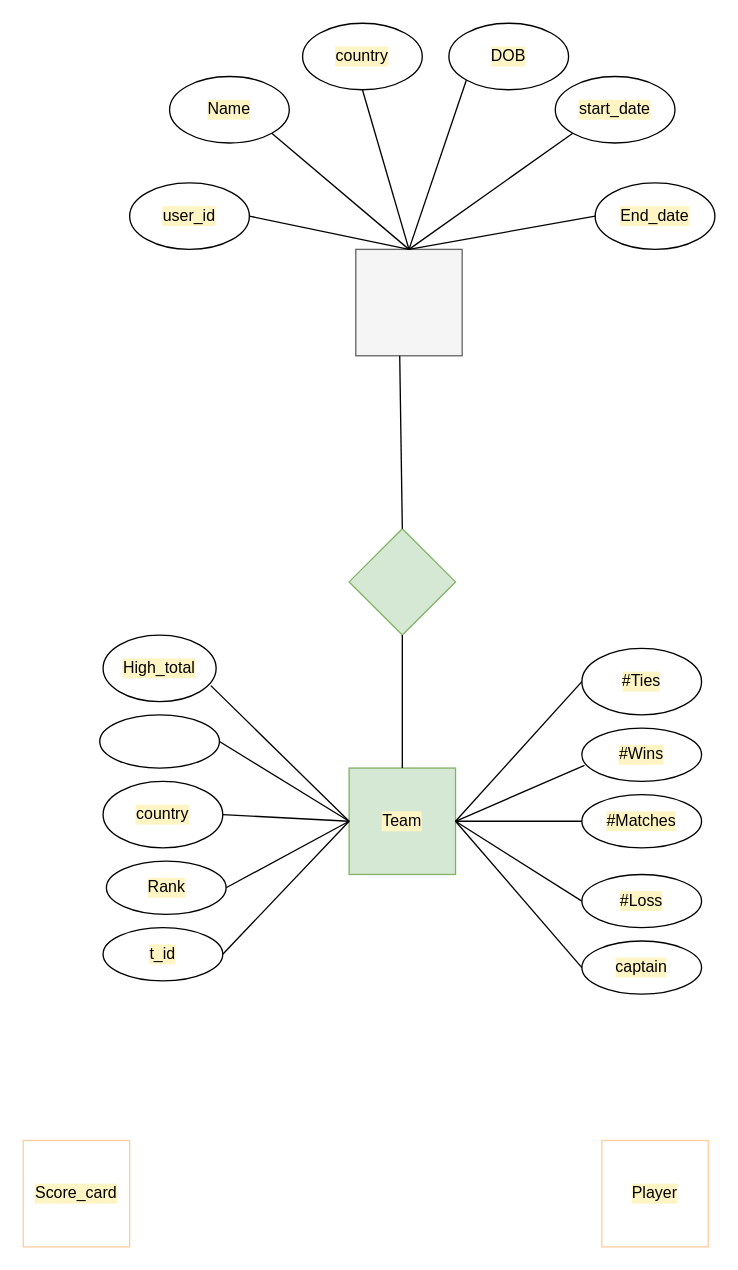
Image size: 738x1270. Some labels were removed from this diagram. The box of each missing label's shape, as (x1, y1, x2, y2) in pixels:
Coach: (354, 248, 462, 356)
for: (348, 527, 456, 635)
low_total: (98, 714, 219, 768)
